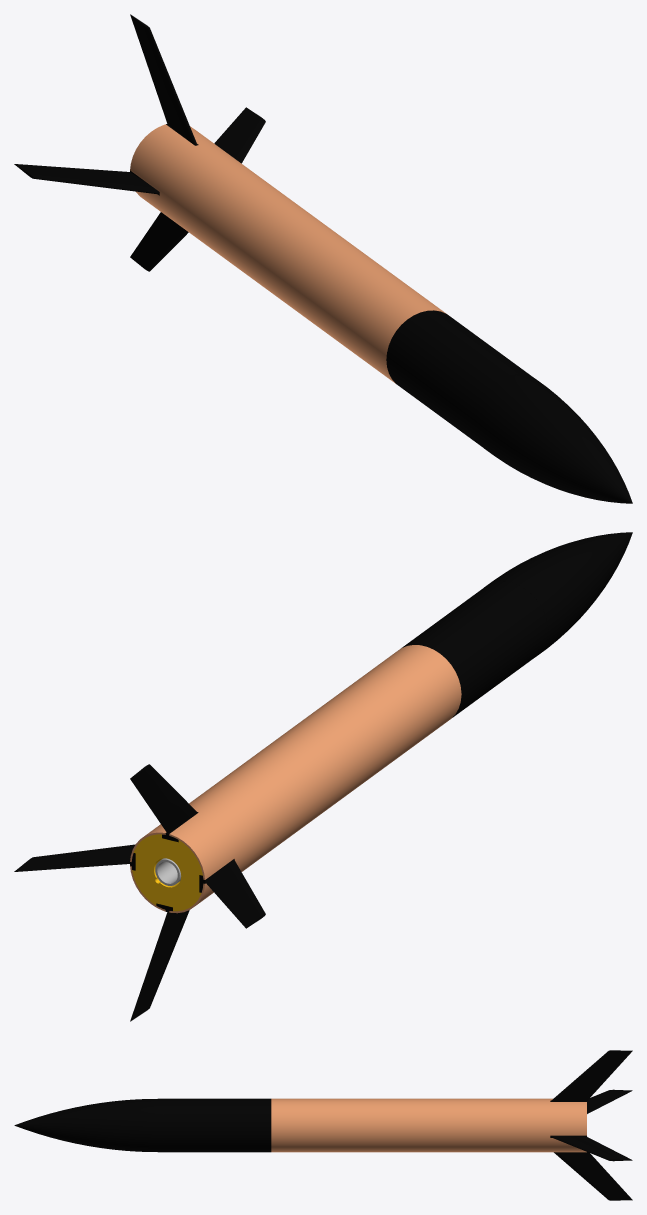
Rendered from assembly - commodore - min.glb.
The picture shows the model from 3 angles, top to bottom: view 1: azimuth 30°, elevation 25°; view 2: azimuth 150°, elevation 25°; view 3: azimuth 270°, elevation 25°; orthographic projection. The views are drawn at different scales.
Visible parts, largest first — view 1: фузелаж, Part 1, електроника_държач, перо 4 ново, перо 1 ново, перо 2 ново, перо 3 ново; view 2: фузелаж, електроника_държач, Part 1, дъно, перо 4 ново, перо 1 ново, перо 2 ново, перо 3 ново; view 3: фузелаж, електроника_държач, Part 1, перо 4 ново, перо 2 ново, перо 3 ново, перо 1 ново.
Boxes of the visible parts, x1=… form: фузелаж: x1=130, y1=124, x2=447, y2=383; Part 1: x1=473, y1=374, x2=632, y2=503; електроника_държач: x1=386, y1=310, x2=532, y2=446; перо 4 ново: x1=130, y1=14, x2=198, y2=145; перо 1 ново: x1=14, y1=164, x2=159, y2=195; перо 2 ново: x1=130, y1=212, x2=188, y2=271; перо 3 ново: x1=214, y1=107, x2=265, y2=163; фузелаж: x1=130, y1=645, x2=461, y2=913; електроника_държач: x1=402, y1=581, x2=548, y2=717; Part 1: x1=484, y1=532, x2=632, y2=654; дъно: x1=132, y1=834, x2=202, y2=911; перо 4 ново: x1=130, y1=764, x2=198, y2=842; перо 1 ново: x1=199, y1=859, x2=265, y2=928; перо 2 ново: x1=130, y1=903, x2=189, y2=1021; перо 3 ново: x1=14, y1=844, x2=135, y2=871; фузелаж: x1=271, y1=1098, x2=586, y2=1152; електроника_държач: x1=164, y1=1098, x2=271, y2=1152; Part 1: x1=14, y1=1098, x2=164, y2=1152; перо 4 ново: x1=550, y1=1050, x2=632, y2=1101; перо 2 ново: x1=554, y1=1152, x2=632, y2=1200; перо 3 ново: x1=550, y1=1135, x2=632, y2=1161; перо 1 ново: x1=587, y1=1089, x2=632, y2=1113.
Bounding box in the file's own units: 0.3398 × 0.3398 × 1.28.
